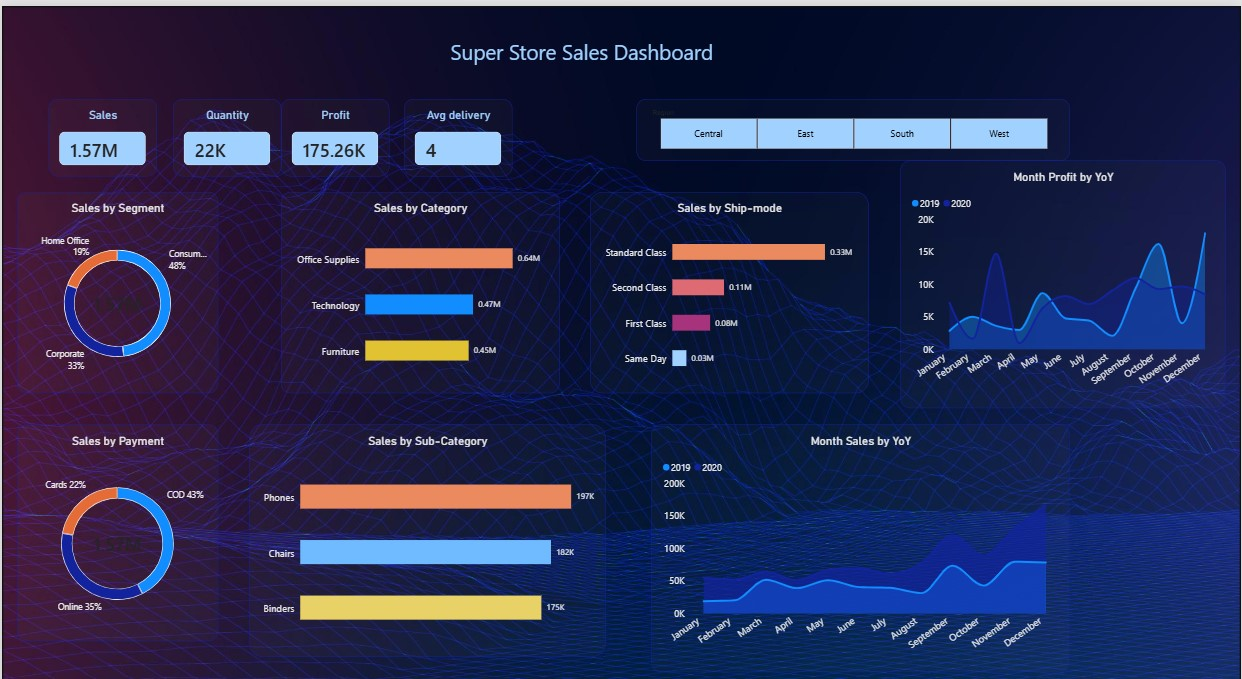

Layout of this report page (visuals, bound fields, positions):
{"tool":"powerbi","page":{"name":"Page 1","canvas":[1920,1080],"ordinal":0},"visuals":[{"type":"clusteredBarChart","title":"Sales by Category","fields":{"Category":["SuperStore_Sales_Dataset.Category"],"Y":["Sum(SuperStore_Sales_Dataset.Sales)"]},"box":[912,192,408,264],"z":0},{"type":"clusteredBarChart","title":"Sales by Sub-Category","fields":{"Category":["SuperStore_Sales_Dataset.Sub-Category"],"Y":["Sum(SuperStore_Sales_Dataset.Sales)"]},"box":[912,480,408,240],"z":1},{"type":"clusteredBarChart","title":"Sales by Ship-mode","fields":{"Category":["SuperStore_Sales_Dataset.Ship Mode"],"Y":["Sum(SuperStore_Sales_Dataset.Sales)"]},"box":[912,768,408,240],"z":2},{"type":"areaChart","title":"Month Sales by YoY","fields":{"Category":["SuperStore_Sales_Dataset.Order Date.Variation.Date Hierarchy.Month","SuperStore_Sales_Dataset.Order Date.Variation.Date Hierarchy.Day"],"Series":["SuperStore_Sales_Dataset.Order Date.Variation.Date Hierarchy.Year"],"Y":["Sum(SuperStore_Sales_Dataset.Sales)"]},"box":[1392,648,480,360],"z":3},{"type":"areaChart","title":"Month Profit by YoY","fields":{"Category":["SuperStore_Sales_Dataset.Order Date.Variation.Date Hierarchy.Month","SuperStore_Sales_Dataset.Order Date.Variation.Date Hierarchy.Day"],"Series":["SuperStore_Sales_Dataset.Order Date.Variation.Date Hierarchy.Year"],"Y":["Sum(SuperStore_Sales_Dataset.Profit)"]},"box":[1392,192,480,336],"z":4},{"type":"donutChart","title":"Sales by Segment","fields":{"Category":["SuperStore_Sales_Dataset.Segment"],"Y":["Sum(SuperStore_Sales_Dataset.Sales)"]},"box":[24,312,312,288],"z":5},{"type":"donutChart","title":"Sales by Payment ","fields":{"Category":["SuperStore_Sales_Dataset.Payment Mode"],"Y":["Sum(SuperStore_Sales_Dataset.Sales)"]},"box":[24,648,312,312],"z":6},{"type":"slicer","fields":{"Values":["SuperStore_Sales_Dataset.Region"]},"box":[792,24,600,96],"z":7},{"type":"textbox","box":[120,48,600,72],"z":8},{"type":"cardVisual","title":"Sales","fields":{"Data":["Sum(SuperStore_Sales_Dataset.Sales)"]},"box":[72,144,168,120],"z":9},{"type":"cardVisual","title":"Quantity","fields":{"Data":["Sum(SuperStore_Sales_Dataset.Quantity)"]},"box":[240,144,168,120],"z":10},{"type":"cardVisual","title":"Profit","fields":{"Data":["Sum(SuperStore_Sales_Dataset.Profit)"]},"box":[408,144,168,120],"z":11},{"type":"cardVisual","title":"Avg delivery","fields":{"Data":["Avg(SuperStore_Sales_Dataset.Avgdelivery)"]},"box":[576,144,168,120],"z":12}]}

Visuals, with their boxes in screenshot pixels (x1, y1, x2, y2), scaled from the page's 1920x1080 canvas onto the 1242x679 screenshot:
"Sales by Category" clusteredBarChart: 590 121 854 287
"Sales by Sub-Category" clusteredBarChart: 590 302 854 453
"Sales by Ship-mode" clusteredBarChart: 590 483 854 634
"Month Sales by YoY" areaChart: 900 407 1211 634
"Month Profit by YoY" areaChart: 900 121 1211 332
"Sales by Segment" donutChart: 16 196 217 377
"Sales by Payment " donutChart: 16 407 217 604
slicer - SuperStore_Sales_Dataset.Region: 512 15 900 75
textbox: 78 30 466 75
"Sales" cardVisual: 47 91 155 166
"Quantity" cardVisual: 155 91 264 166
"Profit" cardVisual: 264 91 373 166
"Avg delivery" cardVisual: 373 91 481 166
